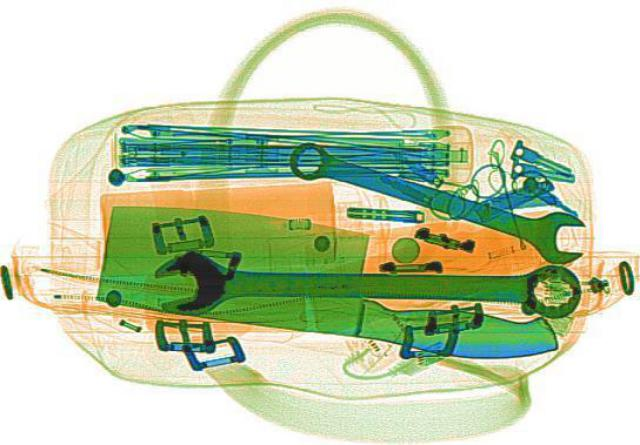Knife: (77, 194, 586, 369)
Wrench: (271, 131, 603, 266), (152, 250, 580, 319)
